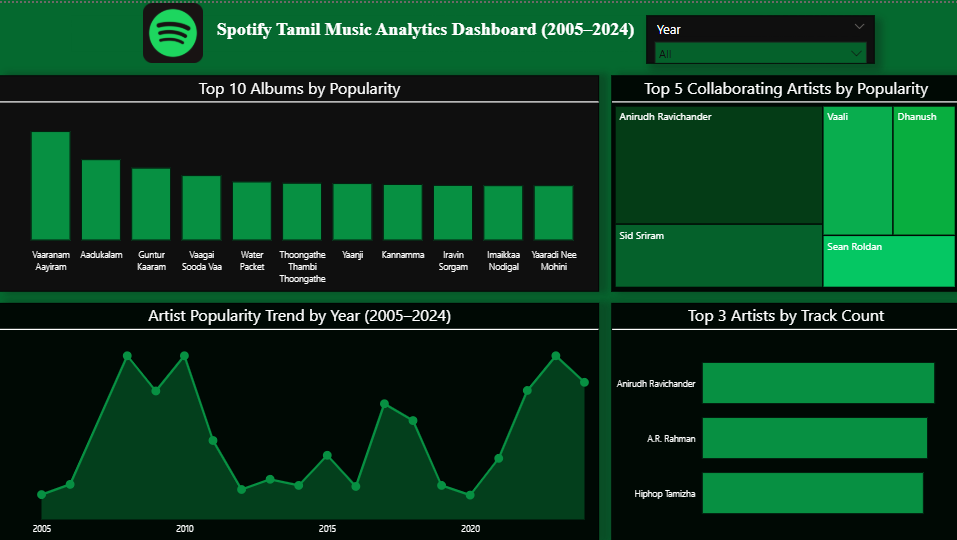

This screenshot's page, from the dashboard's own definition file:
{"tool":"powerbi","page":{"name":"Dashboard","canvas":[1280,720],"ordinal":0},"visuals":[{"type":"barChart","title":"Top 3 Artists by Track Count","fields":{"Category":["spotifytrending_artist_byyear.artist_name"],"Y":["Sum(tamilmusic_directors_toptracks.popularity)"]},"box":[816,400,464,320],"z":0},{"type":"columnChart","title":"Top 10 Albums by Popularity","fields":{"Y":["Sum(tamilmusic_directors_toptracks.popularity)"],"Category":["tamilmusic_directors_toptracks.album"]},"box":[0,96,800,288],"z":1000},{"type":"lineChart","title":"Artist Popularity Trend by Year (2005–2024)","fields":{"Y":["Sum(spotifytrending_artist_byyear.popularity)"],"Category":["spotifytrending_artist_byyear.year"]},"box":[0,400,800,320],"z":2000},{"type":"textbox","box":[96,16,944,48],"z":3000},{"type":"treemap","title":"Top 5 Collaborating Artists by Popularity","fields":{"Group":["tamilmusic_directors_toptracks.collaborating_artist"],"Values":["Sum(tamilmusic_directors_toptracks.popularity)"]},"box":[816,96,464,288],"z":4000},{"type":"image","box":[160,0,144,80],"z":5000},{"type":"slicer","fields":{"Values":["spotifytrending_artist_byyear.year"]},"box":[864,16,304,64],"z":7000}]}

Visuals, with their boxes in screenshot pixels (x1, y1, x2, y2), scaled from the page's 1280x720 canvas onto the 957x540 screenshot:
"Top 3 Artists by Track Count" barChart: bbox=[610, 300, 956, 539]
"Top 10 Albums by Popularity" columnChart: bbox=[0, 72, 598, 288]
"Artist Popularity Trend by Year (2005–2024)" lineChart: bbox=[0, 300, 598, 539]
textbox: bbox=[72, 12, 778, 48]
"Top 5 Collaborating Artists by Popularity" treemap: bbox=[610, 72, 956, 288]
image: bbox=[120, 0, 227, 60]
slicer - spotifytrending_artist_byyear.year: bbox=[646, 12, 873, 60]
